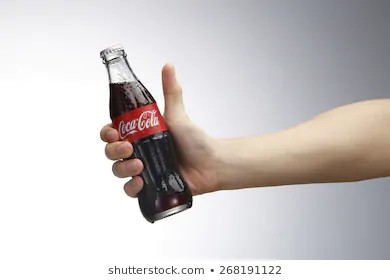coke-glass-bottle: (87, 40, 199, 227)
